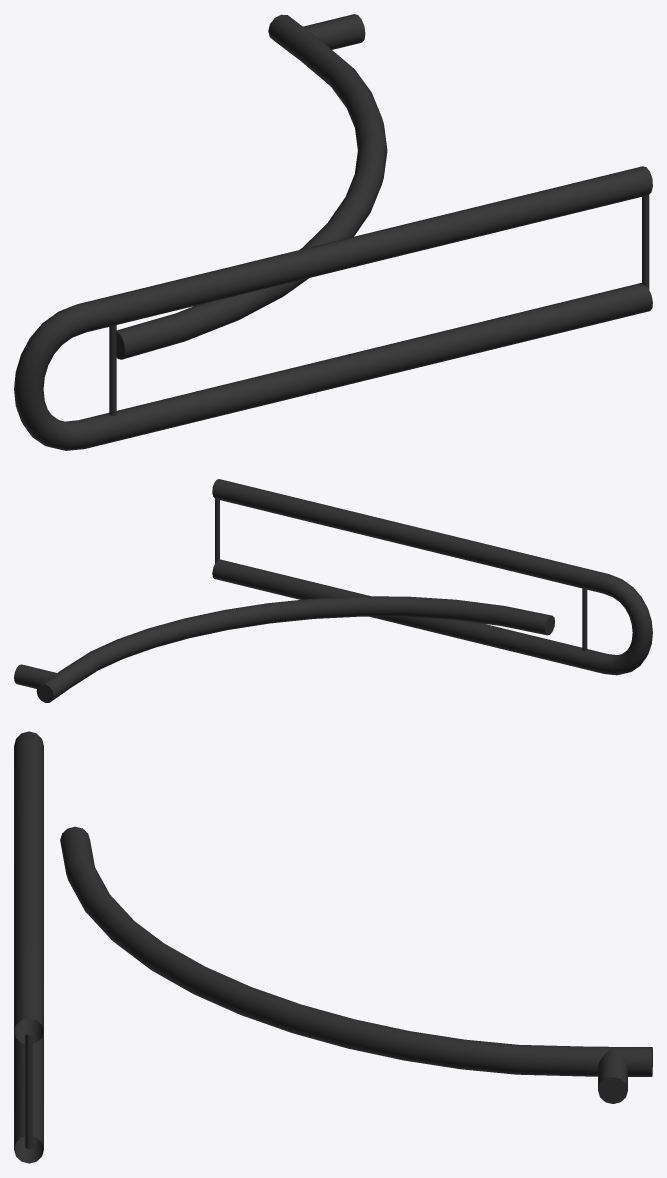
The model's file is Urbi 3_x1250_y-1230_ad_h8000.obj.
3 renders of one model, top to bottom at view 1: azimuth 30°, elevation 25°; view 2: azimuth 150°, elevation 25°; view 3: azimuth 270°, elevation 25°, orthographic. The views are drawn at different scales.
Visible parts, largest first — view 1: Querträger_doppelt_Querträger_doppelt, Bogenausleger_Bogenausleger_mittel.005, Querstreben_Cylinder.007; view 2: Querträger_doppelt_Querträger_doppelt, Bogenausleger_Bogenausleger_mittel.005, Querstreben_Cylinder.007; view 3: Bogenausleger_Bogenausleger_mittel.005, Querträger_doppelt_Querträger_doppelt, Querstreben_Cylinder.007.
Part boxes in pixels (<box>): Querträger_doppelt_Querträger_doppelt: <box>14,166,652,450</box>; Bogenausleger_Bogenausleger_mittel.005: <box>116,14,387,359</box>; Querstreben_Cylinder.007: <box>109,195,649,415</box>; Querträger_doppelt_Querträger_doppelt: <box>212,479,652,675</box>; Bogenausleger_Bogenausleger_mittel.005: <box>14,596,554,702</box>; Querstreben_Cylinder.007: <box>215,499,587,651</box>; Bogenausleger_Bogenausleger_mittel.005: <box>60,826,652,1103</box>; Querträger_doppelt_Querträger_doppelt: <box>14,731,43,1163</box>; Querstreben_Cylinder.007: <box>25,1032,32,1148</box>.
Bounding box in the file's own units: 1.48 × 0.3199 × 1.28.
1 material, 1 textured.
